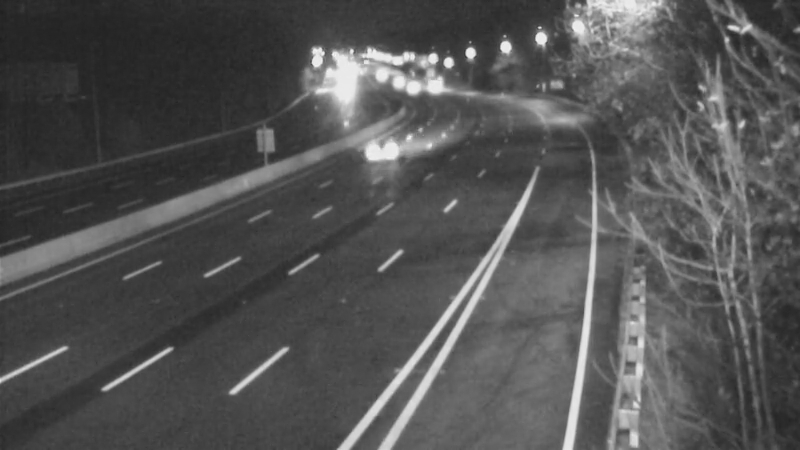vehicle: (355, 50, 405, 100), (372, 54, 422, 104), (385, 61, 435, 111), (405, 62, 455, 112), (354, 122, 404, 172)
